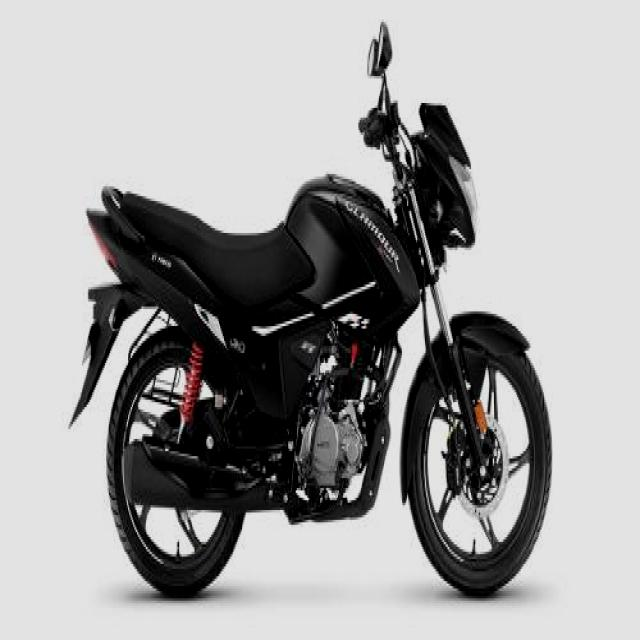MOTORCYCLE: (70, 96, 552, 606)
